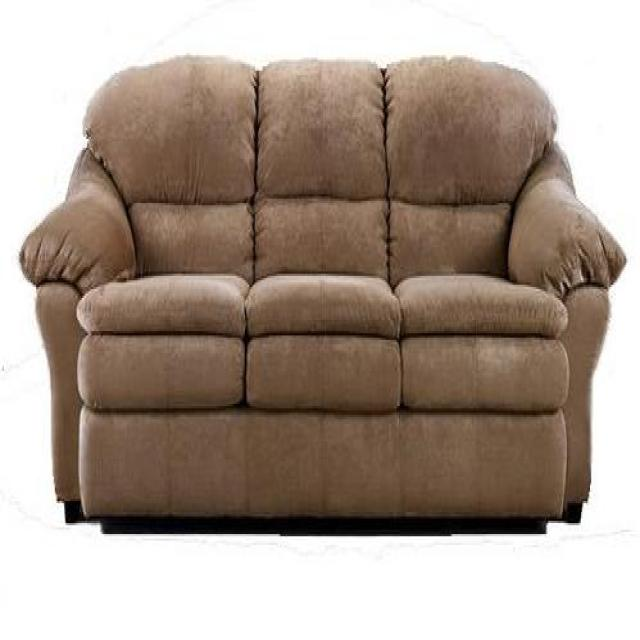sofa: (15, 48, 629, 542)
